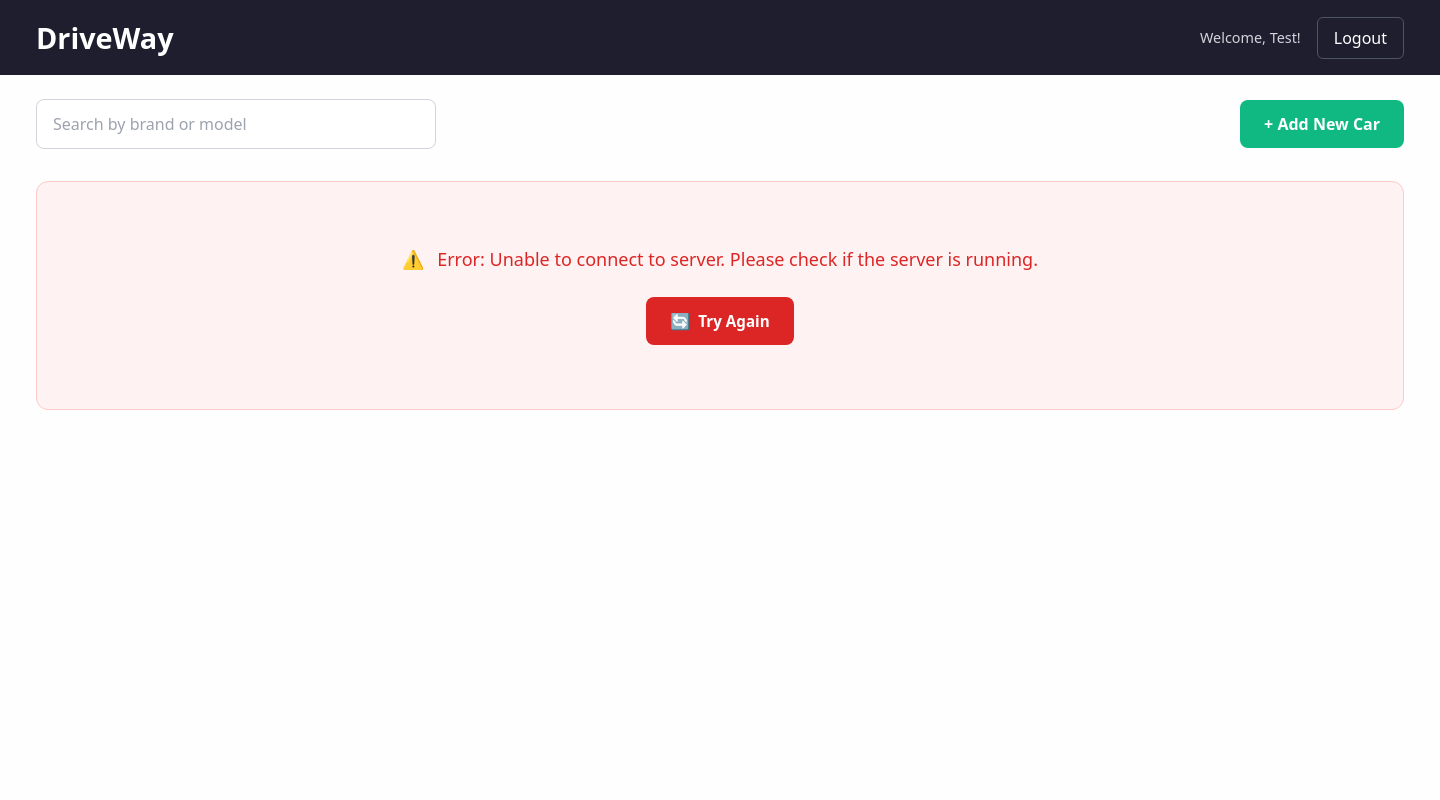
DriveWay - Complete User Registration and Car Management Flow › User Logout Flow › should successfully logout user
Note: Click logout button
Click the button "Logout": [1361, 38] box [1317,17,1404,59]
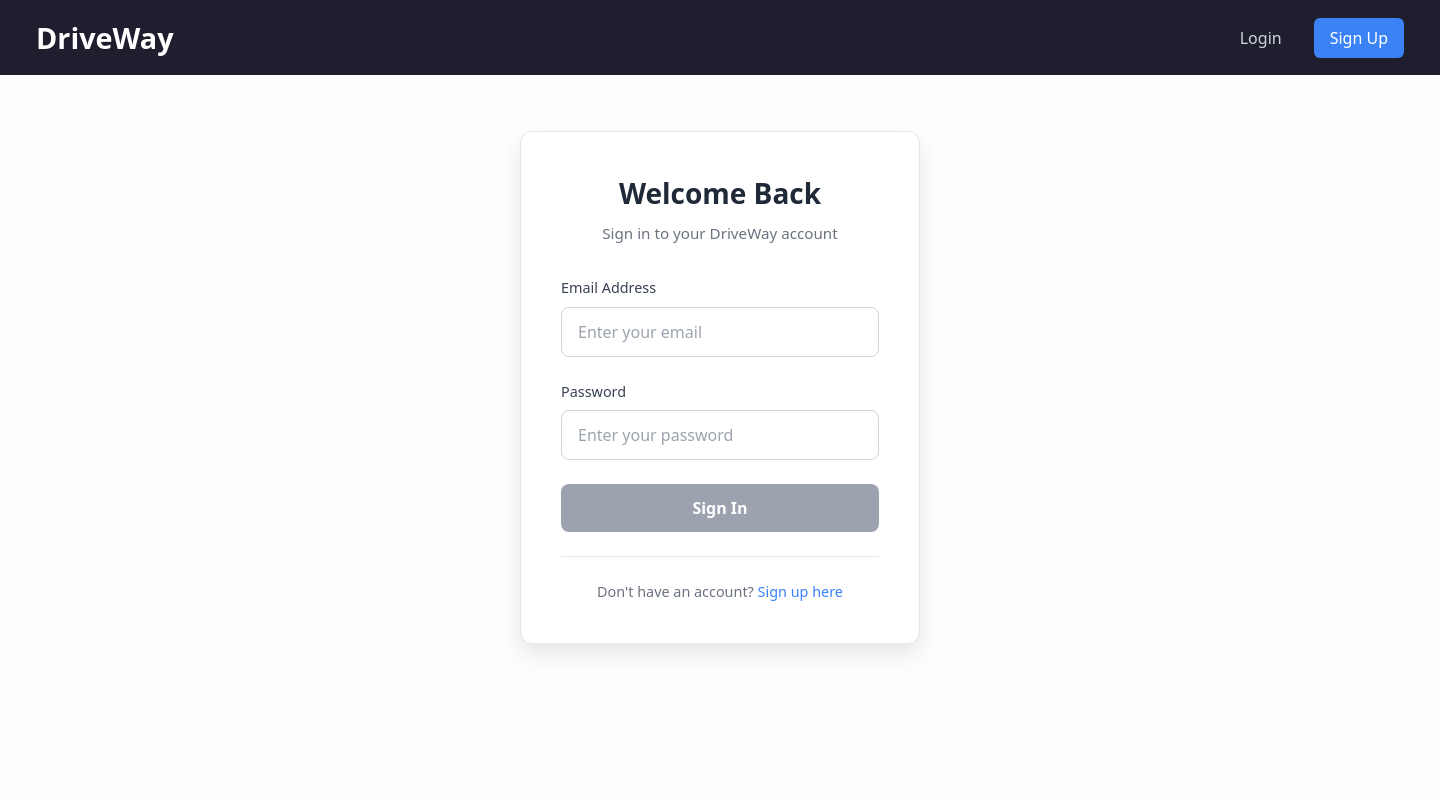
Now the link "Login" is shown, box [1240,27,1282,49]
Now the link "Sign Up" is shown, box [1314,18,1404,58]
Now the link "Add New Car" is gone
